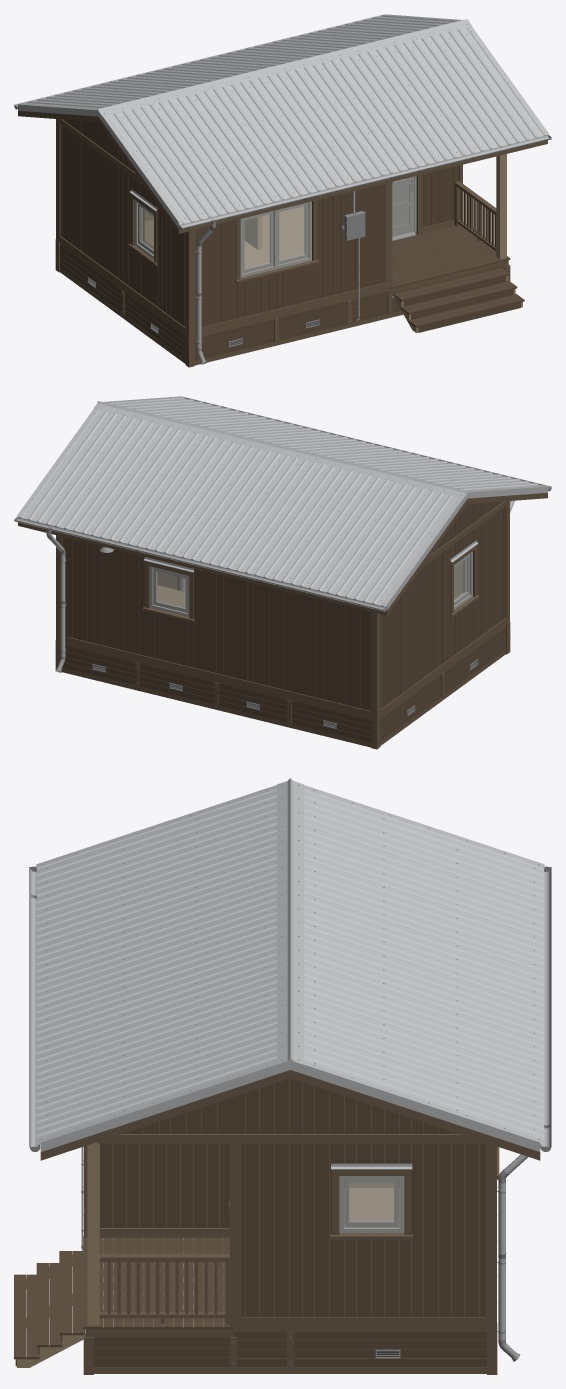
Rendered from Worker_Cabin_v31.fbx.
The picture shows the model from 3 angles, top to bottom: view 1: azimuth 30°, elevation 25°; view 2: azimuth 150°, elevation 25°; view 3: azimuth 270°, elevation 25°; orthographic projection. The views are drawn at different scales.
Visible parts, largest first — view 1: WC_Siding_Front, WC_Siding_Left_Wall, WC_Skirt_Boards, WC_Roof_Sheet_F08, WC_Roof_Sheet_F02, WC_Roof_Sheet_F03, WC_Roof_Sheet_F04, WC_Roof_Sheet_F05, WC_Roof_Sheet_F06, WC_Roof_Sheet_F07, WC_Roof_Sheet_F01, WC_Porch_Deck_Boards (+39 smaller); view 2: WC_Siding_Back, WC_Siding_Left_Wall, WC_Skirt_Boards, WC_Roof_Sheet_B03, WC_Roof_Sheet_B02, WC_Roof_Sheet_B06, WC_Roof_Sheet_B05, WC_Roof_Sheet_B07, WC_Roof_Sheet_B04, WC_Roof_Sheet_B01, WC_Roof_Sheet_B08, WC_Skirt_Rails (+30 smaller); view 3: WC_Siding_Right_Wall, WC_Skirt_Boards, WC_Siding_Porch_Side, WC_Porch_Deck_Boards, WC_Roof_Sheet_B01, WC_Roof_Sheet_F05, WC_Roof_Sheet_B03, WC_Roof_Sheet_B04, WC_Roof_Sheet_B05, WC_Roof_Sheet_F02, WC_Roof_Sheet_F03, WC_Roof_Sheet_F04 (+38 smaller).
Part boxes in pixels (x1,y1,x2,y2): WC_Siding_Front: (195,183,385,334); WC_Siding_Left_Wall: (60,125,185,326); WC_Skirt_Boards: (60,245,503,360); WC_Roof_Sheet_F08: (421,27,548,146); WC_Roof_Sheet_F02: (149,94,273,213); WC_Roof_Sheet_F03: (195,83,317,201); WC_Roof_Sheet_F04: (240,72,362,190); WC_Roof_Sheet_F05: (285,61,408,179); WC_Roof_Sheet_F06: (331,50,453,168); WC_Roof_Sheet_F07: (376,39,498,157); WC_Roof_Sheet_F01: (108,105,226,224); WC_Porch_Deck_Boards: (389,225,510,288); WC_Siding_Back: (63,537,370,710); WC_Siding_Left_Wall: (380,507,505,708); WC_Skirt_Boards: (62,627,505,742); WC_Roof_Sheet_B03: (245,464,367,583); WC_Roof_Sheet_B02: (290,475,412,594); WC_Roof_Sheet_B06: (110,431,231,550); WC_Roof_Sheet_B05: (155,442,277,561); WC_Roof_Sheet_B07: (64,420,186,539); WC_Roof_Sheet_B04: (200,453,322,572); WC_Roof_Sheet_B01: (336,486,457,606); WC_Roof_Sheet_B08: (17,409,141,528); WC_Skirt_Rails: (62,624,505,747); WC_Siding_Right_Wall: (241,1143,485,1317); WC_Skirt_Boards: (94,1332,486,1367); WC_Siding_Porch_Side: (100,1143,229,1227); WC_Porch_Deck_Boards: (83,1236,233,1329); WC_Roof_Sheet_B01: (304,789,544,903); WC_Roof_Sheet_F05: (36,924,276,1037); WC_Roof_Sheet_B03: (304,859,544,972); WC_Roof_Sheet_B04: (304,893,544,1006); WC_Roof_Sheet_B05: (304,928,544,1040); WC_Roof_Sheet_F02: (36,821,276,934); WC_Roof_Sheet_F03: (36,855,276,968); WC_Roof_Sheet_F04: (36,890,276,1003).
Size of the model in its own units: 8.17 by 4.55 by 6.62.
